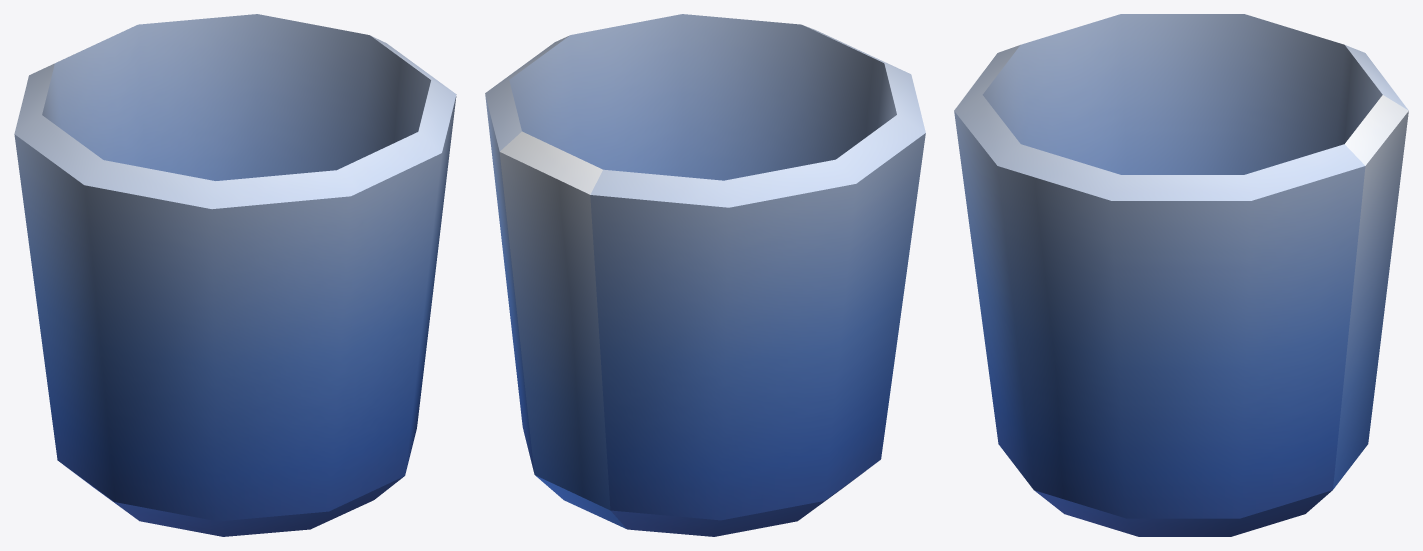
The model's file is m_Glass13.fbx.
The picture shows the model from 3 angles, left to right: view 1: azimuth 30°, elevation 25°; view 2: azimuth 150°, elevation 25°; view 3: azimuth 270°, elevation 25°; orthographic projection.
Parts seen in each view (by area): view 1: m_Glass13; view 2: m_Glass13; view 3: m_Glass13.
Boxes of the visible parts, box(x1,y1,x2,y2) form: m_Glass13: box(14, 14, 456, 536); m_Glass13: box(485, 14, 925, 536); m_Glass13: box(954, 14, 1408, 536).
Bounding box in the file's own units: 12.35 × 12 × 12.98.
